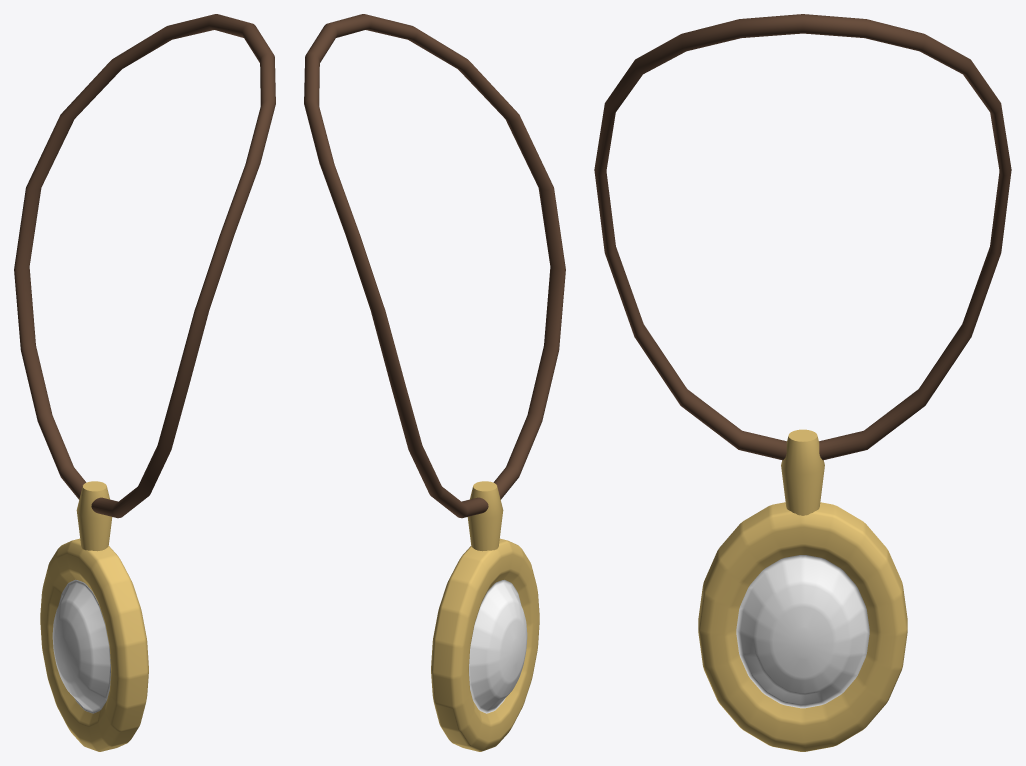
File: amulet.fbx
3 renders of one model, left to right at view 1: azimuth 30°, elevation 25°; view 2: azimuth 150°, elevation 25°; view 3: azimuth 270°, elevation 25°, orthographic. The views are drawn at different scales.
Visible parts, largest first — view 1: polySurface3; view 2: polySurface3; view 3: polySurface3.
Part boxes in pixels (x1,y1,x2,y2): polySurface3: [14, 14, 275, 751]; polySurface3: [304, 14, 565, 751]; polySurface3: [594, 14, 1011, 751].
Bounding box in the file's own units: 0.1092 × 0.3714 × 0.1706.
